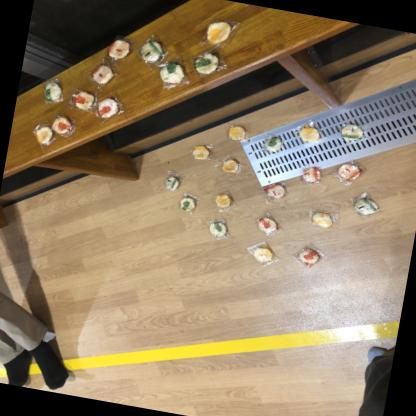green_setoshio: (150, 54, 193, 94), (130, 30, 173, 68), (186, 45, 230, 82), (346, 190, 384, 220), (35, 76, 66, 106), (258, 128, 288, 156), (202, 216, 232, 244), (336, 119, 366, 146), (158, 168, 185, 194), (174, 190, 200, 215)
red_setoshio: (330, 156, 368, 187), (85, 58, 120, 90), (256, 176, 294, 205), (288, 240, 324, 270), (292, 160, 327, 190), (67, 82, 98, 114), (249, 210, 282, 240), (96, 92, 126, 124), (103, 36, 132, 63), (49, 112, 72, 136)
yellow_setoshio: (197, 12, 244, 50), (246, 236, 282, 267), (303, 204, 340, 232), (219, 118, 253, 146), (206, 188, 240, 216), (293, 118, 324, 147), (213, 152, 246, 177), (30, 119, 56, 150), (187, 141, 214, 162)
